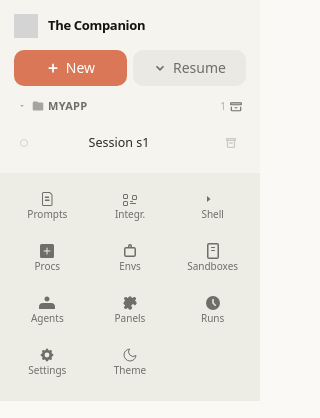
Sidebar › double-clicking a session enters edit mode
Double-click the button "Session s1": (130, 142) [10,120,250,164]
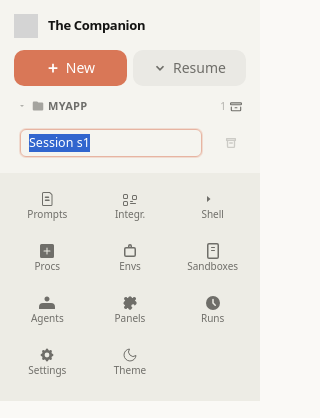
Expected: the field showing "Session s1" is shown, [20,128,202,157]
